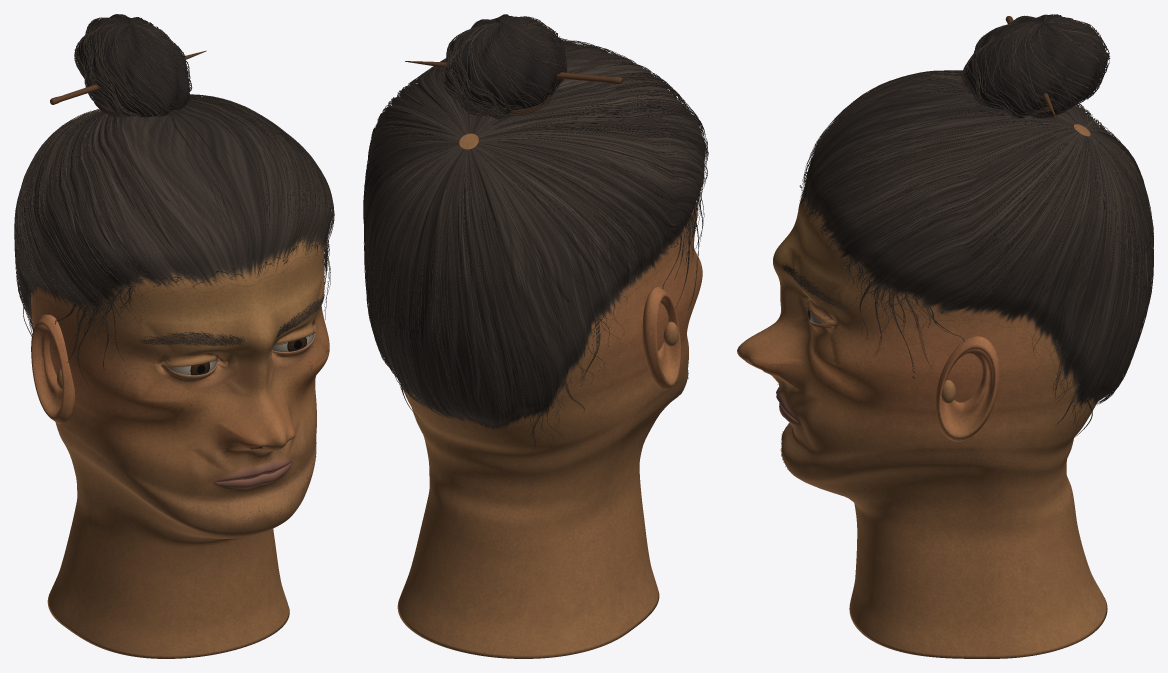
The model's file is ShenShang_NativeHead.glb.
3 renders of one model, left to right at view 1: azimuth 30°, elevation 25°; view 2: azimuth 150°, elevation 25°; view 3: azimuth 270°, elevation 25°, orthographic. The views are drawn at different scales.
Parts seen in each view (by area): view 1: Shen_HeadSkin, 分区发根 · 随头皮走向, 顺流细发 · 可编辑单丝, 后拢发片 · 六十二束, 回旋发髻 · 中束, 发髻纤维 · 旋绕, Shen_Ear.R, 碎发 · 额角与鬓缘, 眉毫 · 根竖峰舒尾落, 两鬓与颈后散发; view 2: Shen_HeadSkin, 顺流细发 · 可编辑单丝, 分区发根 · 随头皮走向, 后拢发片 · 六十二束, 发髻纤维 · 旋绕, 回旋发髻 · 中束, Shen_Ear.R, 碎发 · 额角与鬓缘, 两鬓与颈后散发, 木簪 · 一削一尖; view 3: Shen_HeadSkin, 顺流细发 · 可编辑单丝, 分区发根 · 随头皮走向, 后拢发片 · 六十二束, 回旋发髻 · 中束, 发髻纤维 · 旋绕, Shen_Ear.L, 碎发 · 额角与鬓缘, 两鬓与颈后散发, 眉毫 · 根竖峰舒尾落.
Part boxes in pixels (x1=…): Shen_HeadSkin: x1=30, y1=237, x2=329, y2=658; 分区发根 · 随头皮走向: x1=18, y1=102, x2=331, y2=320; 顺流细发 · 可编辑单丝: x1=14, y1=94, x2=334, y2=328; 后拢发片 · 六十二束: x1=16, y1=98, x2=329, y2=307; 回旋发髻 · 中束: x1=76, y1=16, x2=189, y2=117; 发髻纤维 · 旋绕: x1=74, y1=14, x2=192, y2=118; Shen_Ear.R: x1=31, y1=314, x2=75, y2=423; 碎发 · 额角与鬓缘: x1=23, y1=237, x2=330, y2=386; 眉毫 · 根竖峰舒尾落: x1=138, y1=294, x2=324, y2=345; 两鬓与颈后散发: x1=27, y1=239, x2=328, y2=343; Shen_HeadSkin: x1=397, y1=133, x2=702, y2=658; 顺流细发 · 可编辑单丝: x1=363, y1=38, x2=708, y2=427; 分区发根 · 随头皮走向: x1=367, y1=40, x2=705, y2=429; 后拢发片 · 六十二束: x1=365, y1=45, x2=705, y2=415; 发髻纤维 · 旋绕: x1=441, y1=14, x2=567, y2=119; 回旋发髻 · 中束: x1=444, y1=15, x2=564, y2=117; Shen_Ear.R: x1=642, y1=286, x2=680, y2=390; 碎发 · 额角与鬓缘: x1=400, y1=183, x2=704, y2=449; 两鬓与颈后散发: x1=398, y1=193, x2=699, y2=446; 木簪 · 一削一尖: x1=405, y1=61, x2=622, y2=84; Shen_HeadSkin: x1=737, y1=124, x2=1107, y2=658; 顺流细发 · 可编辑单丝: x1=801, y1=70, x2=1153, y2=404; 分区发根 · 随头皮走向: x1=801, y1=78, x2=1149, y2=407; 后拢发片 · 六十二束: x1=814, y1=71, x2=1151, y2=395; 回旋发髻 · 中束: x1=964, y1=15, x2=1107, y2=118; 发髻纤维 · 旋绕: x1=961, y1=14, x2=1110, y2=118; Shen_Ear.L: x1=935, y1=336, x2=999, y2=441; 碎发 · 额角与鬓缘: x1=799, y1=171, x2=1092, y2=438; 两鬓与颈后散发: x1=839, y1=254, x2=1096, y2=433; 眉毫 · 根竖峰舒尾落: x1=782, y1=264, x2=852, y2=312.
Size of the model in its own units: 0.1629 by 0.3322 by 0.2149.
25 materials, 3 textured.
